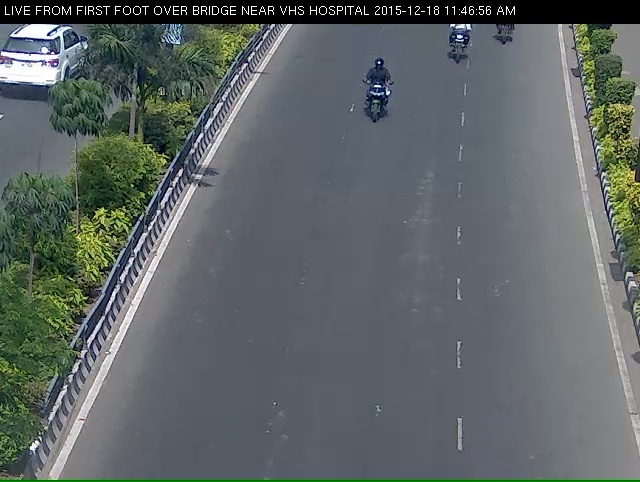Person: (352, 66, 393, 144), (447, 20, 481, 81)
